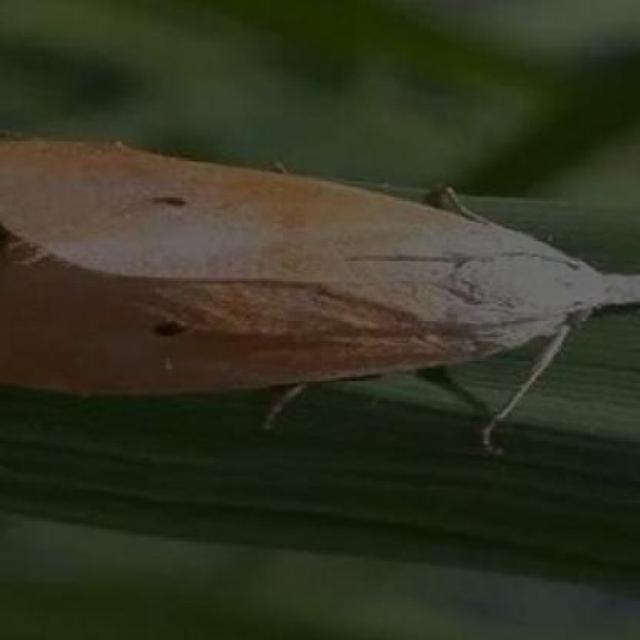stem-borer: (0, 134, 640, 409)
